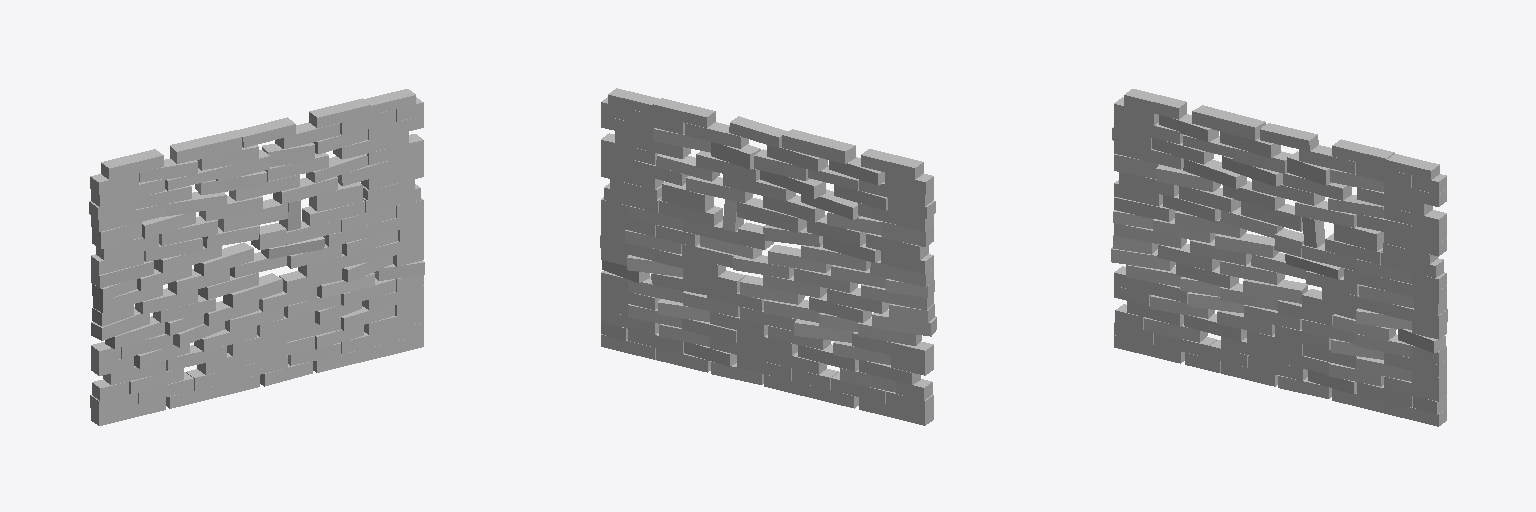
Rendered from wall.obj.
The picture shows the model from 3 angles: view 1: azimuth 30°, elevation 25°; view 2: azimuth 150°, elevation 25°; view 3: azimuth 330°, elevation 25°; orthographic projection.
Visible parts, largest first — view 1: 3DSMesh_0_0; view 2: 3DSMesh_0_0; view 3: 3DSMesh_0_0.
Boxes of the visible parts, box(x1,y1,x2,y2) form: 3DSMesh_0_0: box(89, 89, 424, 425); 3DSMesh_0_0: box(600, 88, 936, 425); 3DSMesh_0_0: box(1111, 89, 1447, 426).
Bounding box in the file's own units: 16.64 × 12.36 × 1.43.